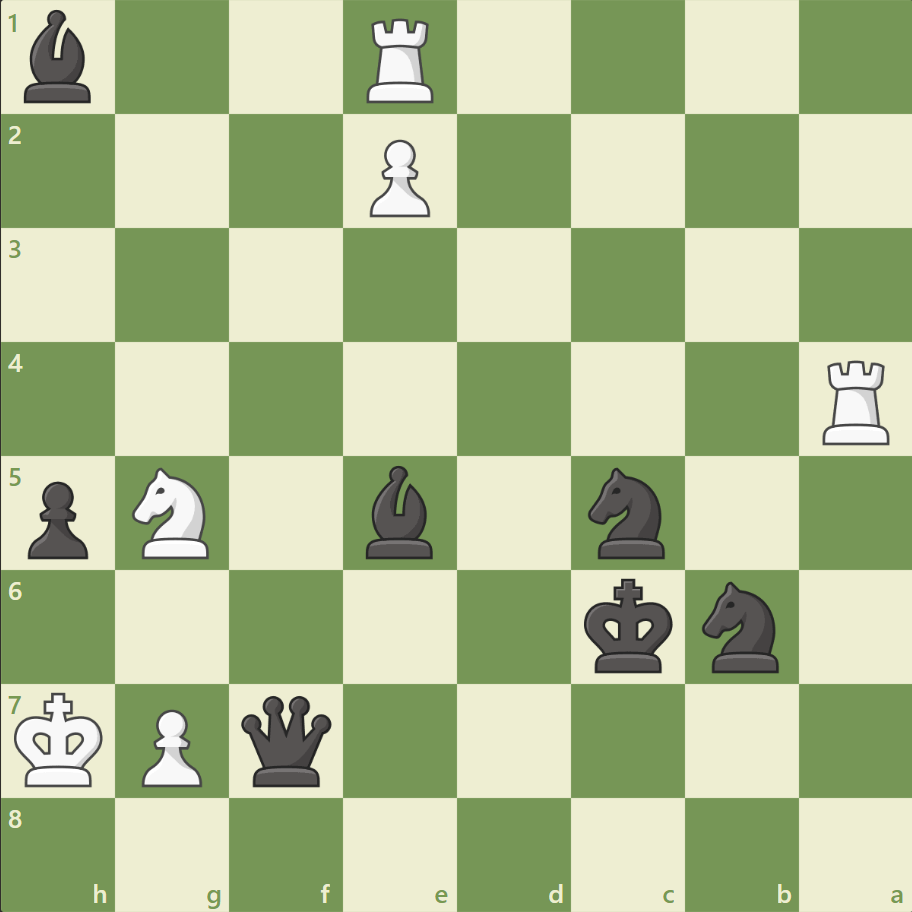K: (11, 685, 111, 793)
N: (124, 461, 222, 564)
P: (133, 700, 208, 791), (361, 132, 435, 223)
R: (814, 352, 897, 449), (360, 12, 442, 109)
b: (358, 460, 442, 563), (17, 6, 101, 109)
k: (579, 571, 679, 679)
n: (579, 461, 676, 564), (692, 575, 789, 677)
p: (20, 473, 95, 564)
q: (237, 690, 336, 789)
